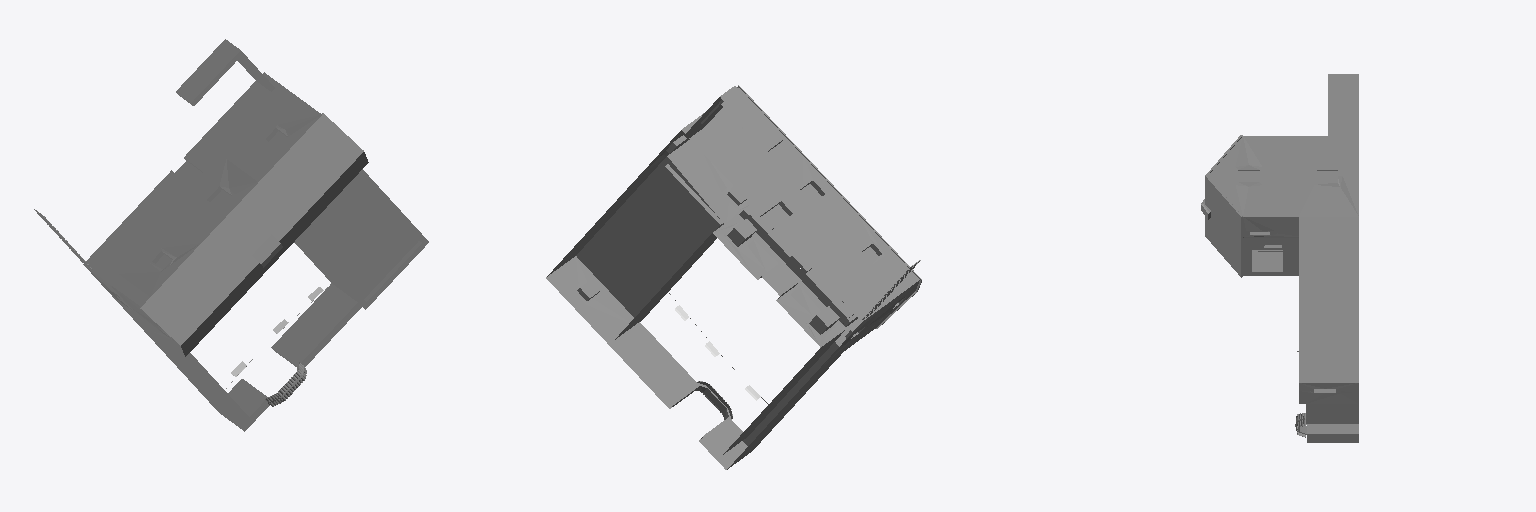
The model's file is greekhouse.obj.
The picture shows the model from 3 angles: view 1: azimuth 30°, elevation 25°; view 2: azimuth 150°, elevation 25°; view 3: azimuth 270°, elevation 25°; orthographic projection.
Visible parts, largest first — view 1: Box001; view 2: Box001; view 3: Box001.
Boxes of the visible parts, x1,y1,x2,y2 form: Box001: [34, 39, 428, 431]; Box001: [546, 85, 921, 469]; Box001: [1201, 74, 1358, 442].
Size of the model in its own units: 839 by 816 by 314.